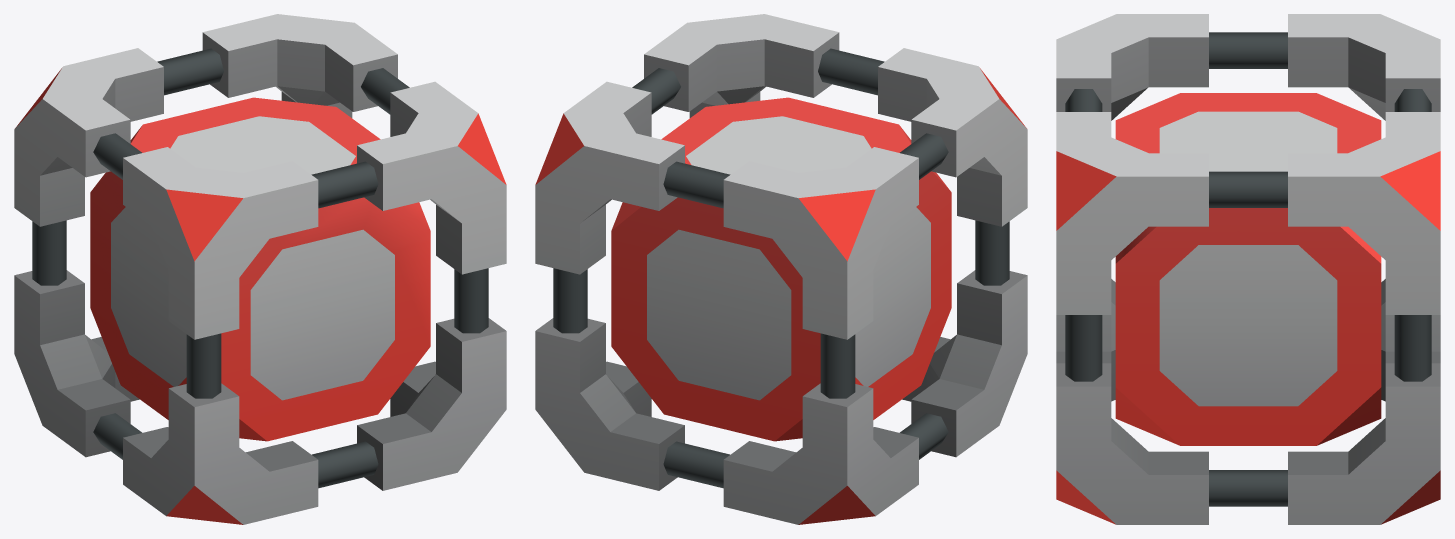
The picture shows the model from 3 angles, left to right: view 1: azimuth 30°, elevation 25°; view 2: azimuth 150°, elevation 25°; view 3: azimuth 270°, elevation 25°; orthographic projection. The views are drawn at different scales.
Parts seen in each view (by area): view 1: Box_014; view 2: Box_014; view 3: Box_014.
Part boxes in pixels (left/top/right/bottom): Box_014: left=14, top=14, right=506, bottom=524; Box_014: left=535, top=14, right=1027, bottom=524; Box_014: left=1056, top=14, right=1440, bottom=524.
Size of the model in its own units: 64.76 by 64.76 by 64.76.
